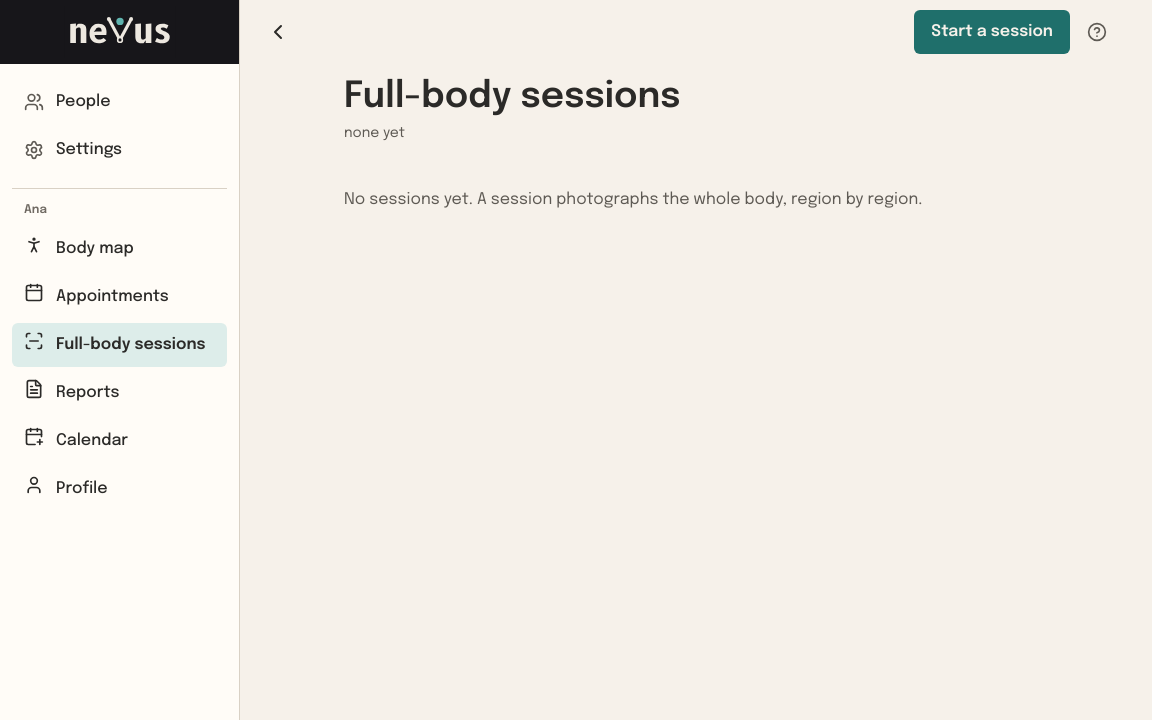
Test: full-body sessions › starts from the person's page and lists every region in the protocol's order
Click the button "Start a session": (992, 32) top-left (914, 10), bottom-right (1070, 54)
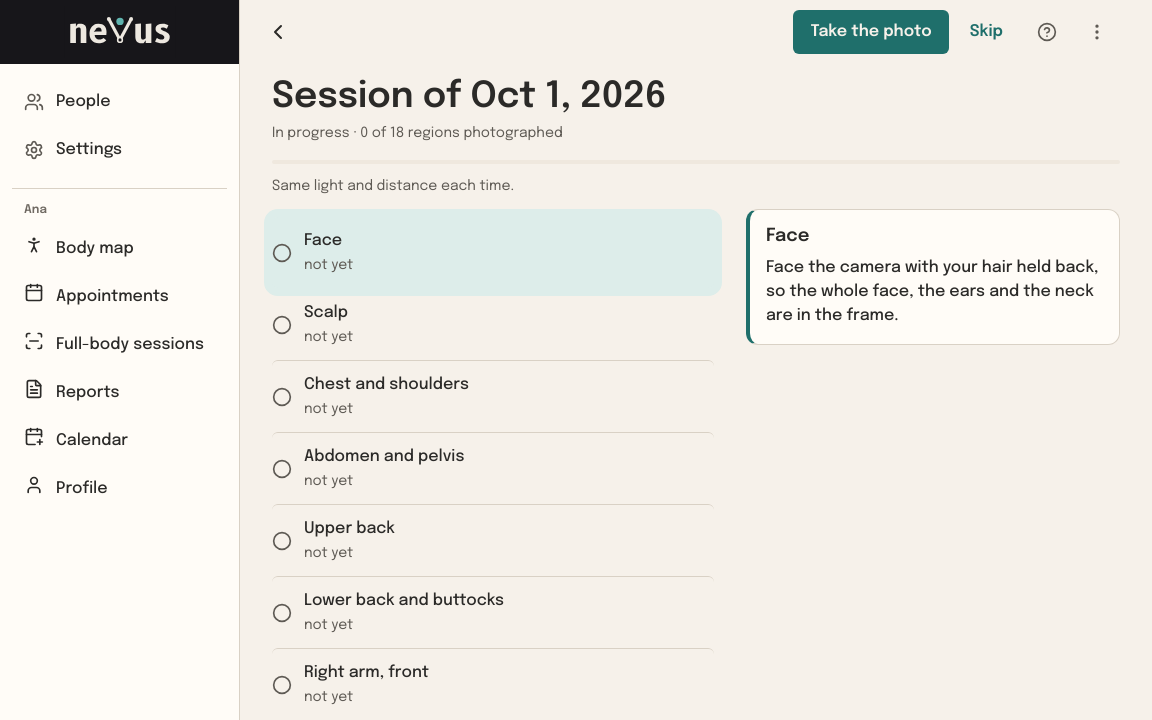
Result: the heading "Session of Oct 1, 2026" is shown at top-left (272, 79), bottom-right (667, 115)
Result: the number of list items is 18
Result: the list item "Face not yet" is shown at top-left (272, 217), bottom-right (714, 288)
